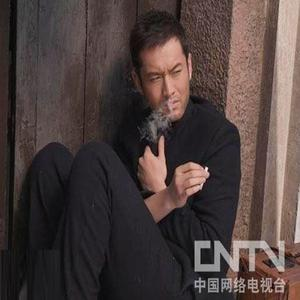cigarette: (199, 165, 209, 193)
